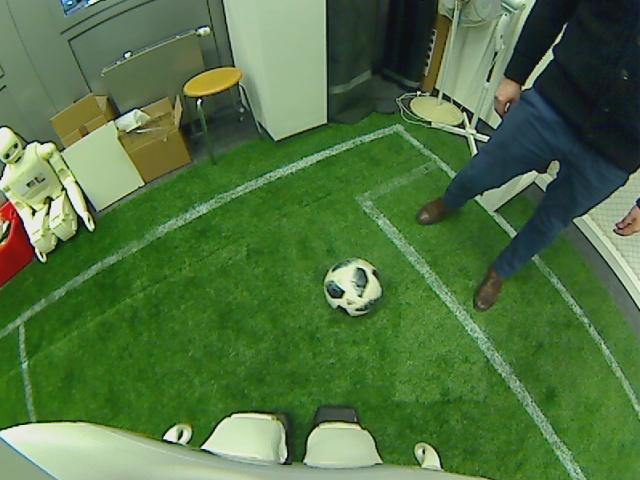ball: (322, 258, 382, 317)
